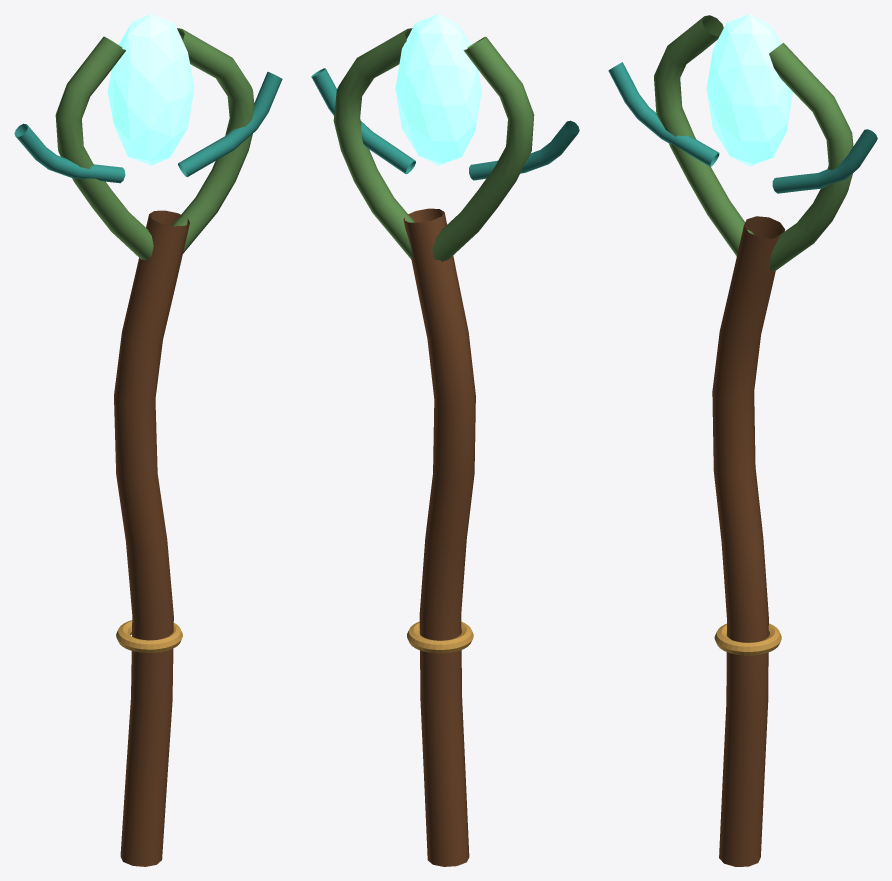
The model's file is weapon_aurora_staff.glb.
The picture shows the model from 3 angles, left to right: view 1: azimuth 30°, elevation 25°; view 2: azimuth 150°, elevation 25°; view 3: azimuth 330°, elevation 25°; orthographic projection.
Visible parts, largest first — view 1: AuroraShaft, LifeStone, CrownLeft, CrownRight, LeafR, LeafL, BronzeCollar; view 2: AuroraShaft, LifeStone, CrownLeft, CrownRight, LeafR, LeafL, BronzeCollar; view 3: AuroraShaft, LifeStone, CrownLeft, CrownRight, LeafL, LeafR, BronzeCollar.
Boxes of the visible parts, x1,y1,x2,y2 form: AuroraShaft: (114, 210, 189, 866); LifeStone: (107, 14, 194, 165); CrownLeft: (55, 36, 153, 260); CrownRight: (172, 28, 254, 253); LeafR: (178, 72, 282, 176); LeafL: (14, 123, 125, 183); BronzeCollar: (116, 620, 182, 652); AuroraShaft: (403, 208, 475, 866); LifeStone: (395, 14, 481, 165); CrownLeft: (432, 36, 534, 261); CrownRight: (333, 28, 414, 259); LeafR: (311, 68, 415, 173); LeafL: (469, 120, 579, 180); BronzeCollar: (407, 621, 473, 653); AuroraShaft: (712, 216, 784, 866); LifeStone: (706, 14, 792, 166); CrownLeft: (654, 15, 753, 256); CrownRight: (769, 43, 853, 271); LeafL: (608, 62, 719, 166); LeafR: (772, 129, 877, 193); BronzeCollar: (714, 623, 781, 655).
Size of the model in its own units: 0.8053 by 2.44 by 0.19.
